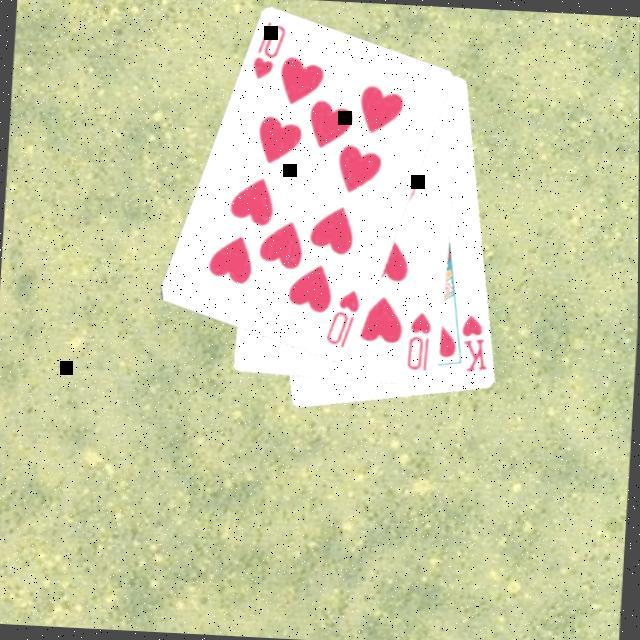10H: (321, 284, 362, 350), (247, 16, 288, 82), (402, 308, 434, 373)
KH: (455, 309, 492, 374)
